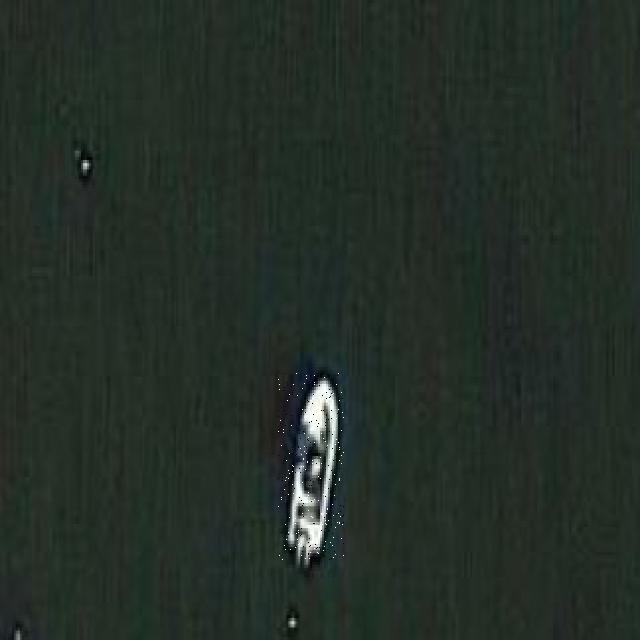boat: (278, 374, 344, 562)
